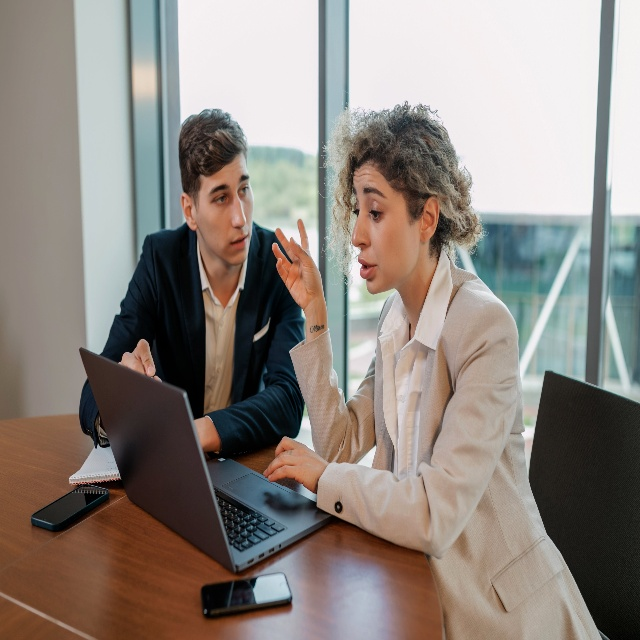Sin_guantes: (268, 213, 321, 310), (262, 435, 323, 497), (117, 337, 159, 378)
